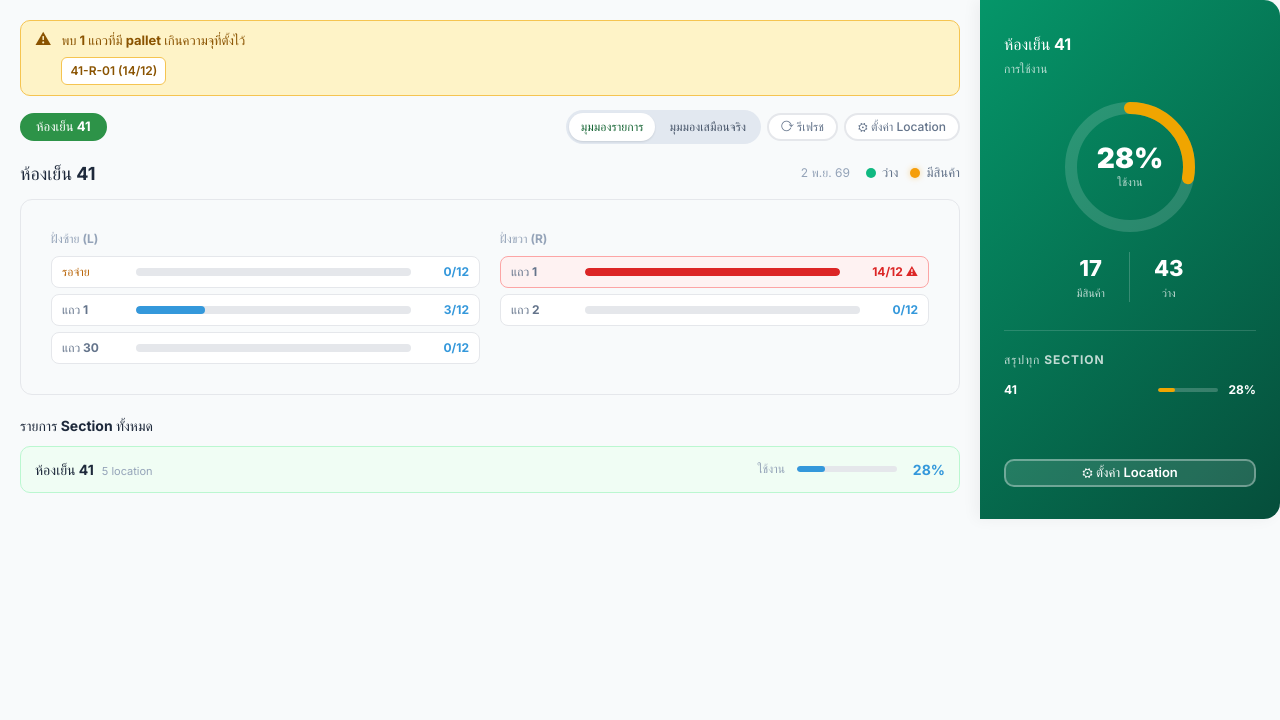
it: WarehouseLayoutWidget virtual view › switches to the virtual view with rows from 30 at the top down to รอจ่าย by the door
The image size is (1280, 720).
Click the button with test id "layout-view-virtual": (708, 126) left=658, top=112, right=758, bottom=140
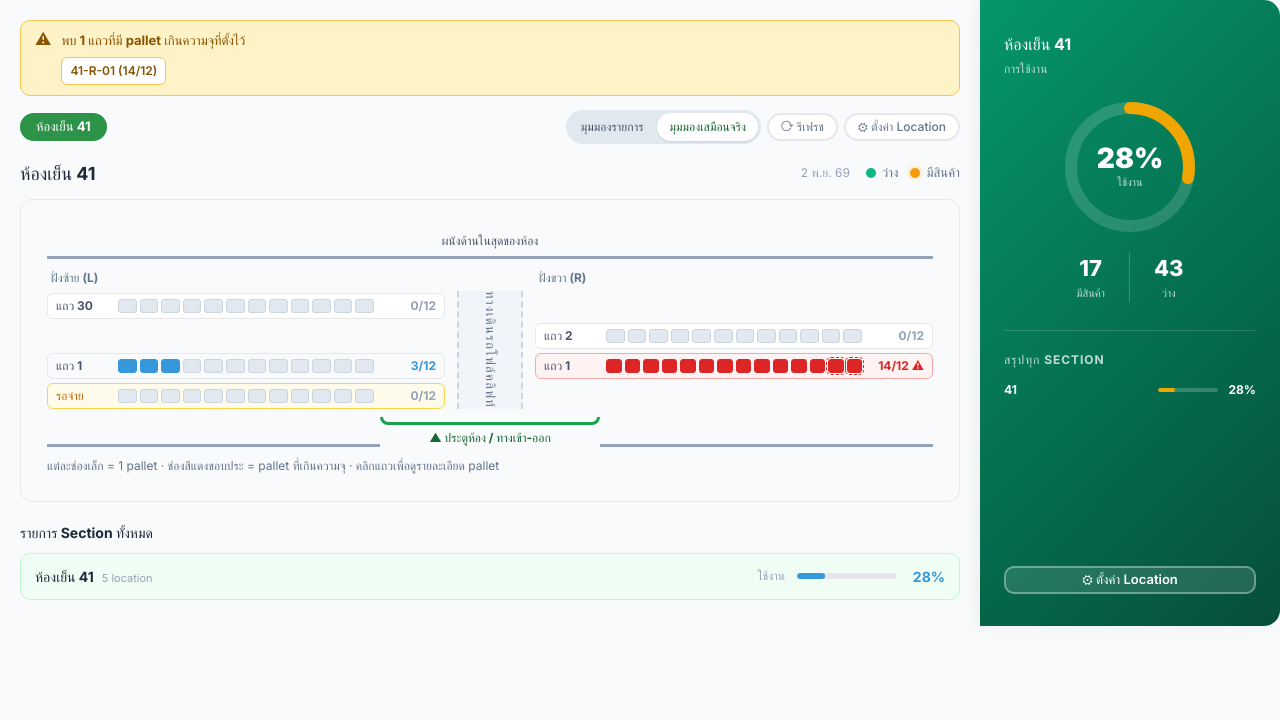
Result: the text "ทางเดินรถโฟล์คลิฟท์" is shown at left=483, top=291, right=499, bottom=408
Result: the text "▲ ประตูห้อง / ทางเข้า-ออก" is shown at left=429, top=428, right=551, bottom=446
